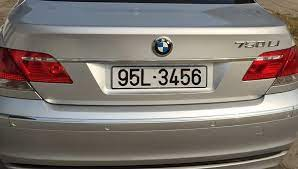Car number plates: (111, 66, 206, 87)
